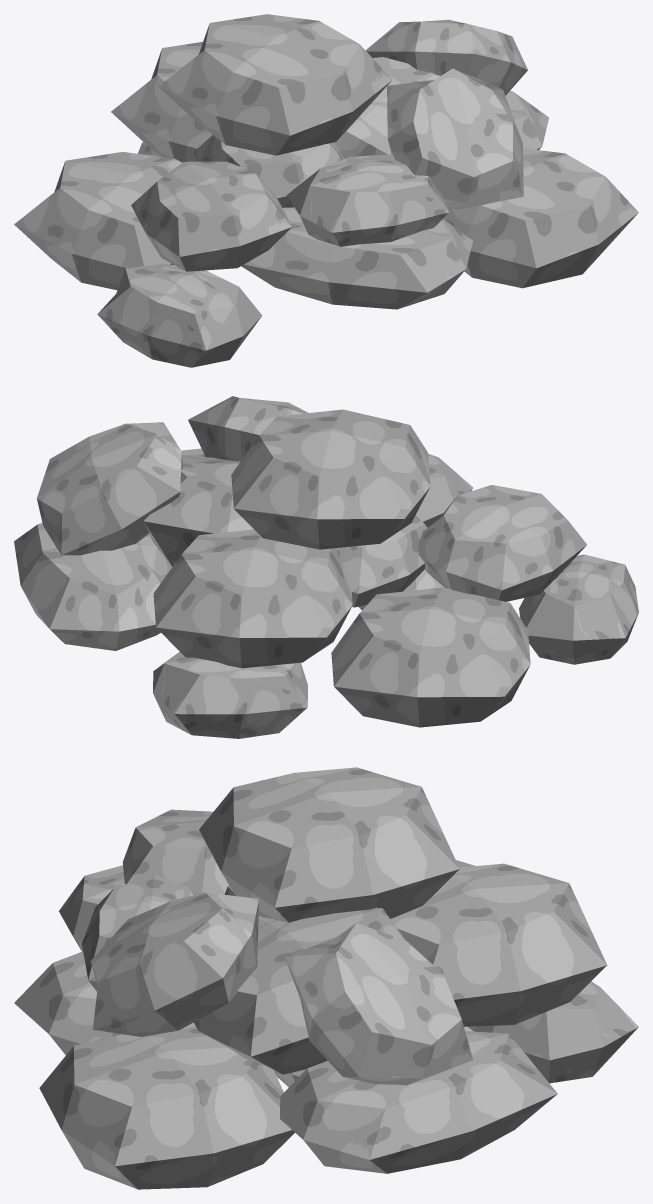
The model's file is stoneWorkshopMaterial3.fbx.
3 views of the same model, one above another, from view 1: azimuth 30°, elevation 25°; view 2: azimuth 150°, elevation 25°; view 3: azimuth 270°, elevation 25° (orthographic). The views are drawn at different scales.
Visible parts, largest first — view 1: Pebble.001; view 2: Pebble.001; view 3: Pebble.001.
Part boxes in pixels (box(x1,y1,x2,y2)): Pebble.001: box(14, 14, 638, 367); Pebble.001: box(14, 396, 638, 738); Pebble.001: box(14, 767, 638, 1189).
Bounding box in the file's own units: 76.03 × 30.3 × 65.71.
Materials: 11 (11 with a texture image).
